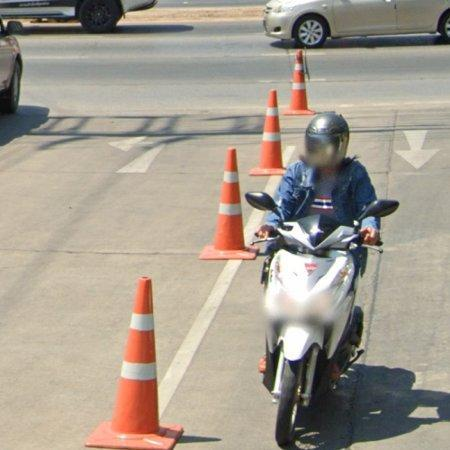motorcycles: (246, 193, 398, 446)
